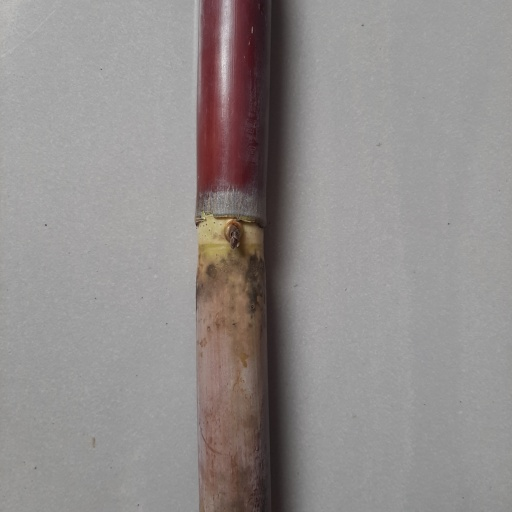Sprouted_Bud: (223, 218, 245, 251)
